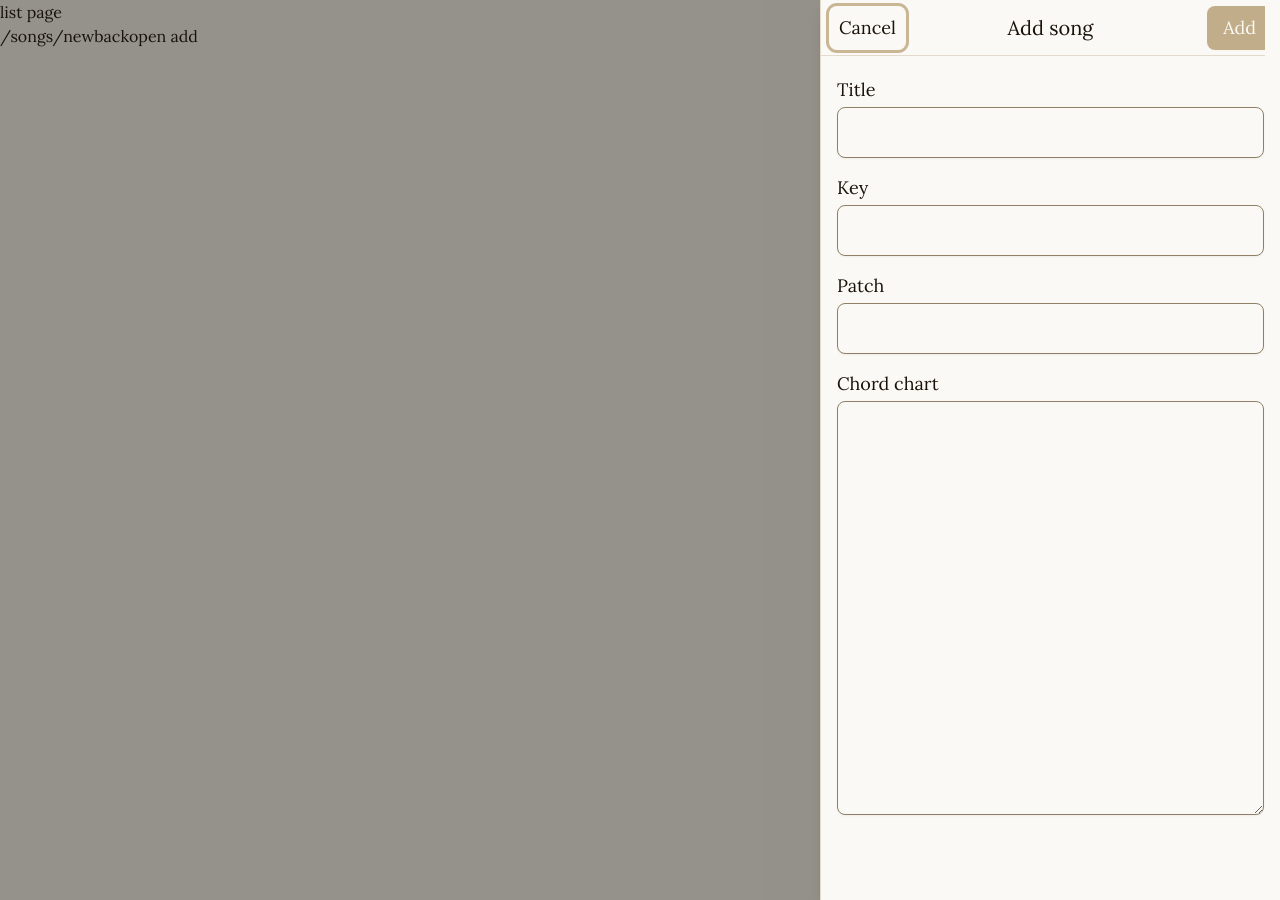
Scenario: SongEdit › cancels an add by stepping back when there is history
Click the button "Cancel" at (867, 28), box [829,6,906,50]
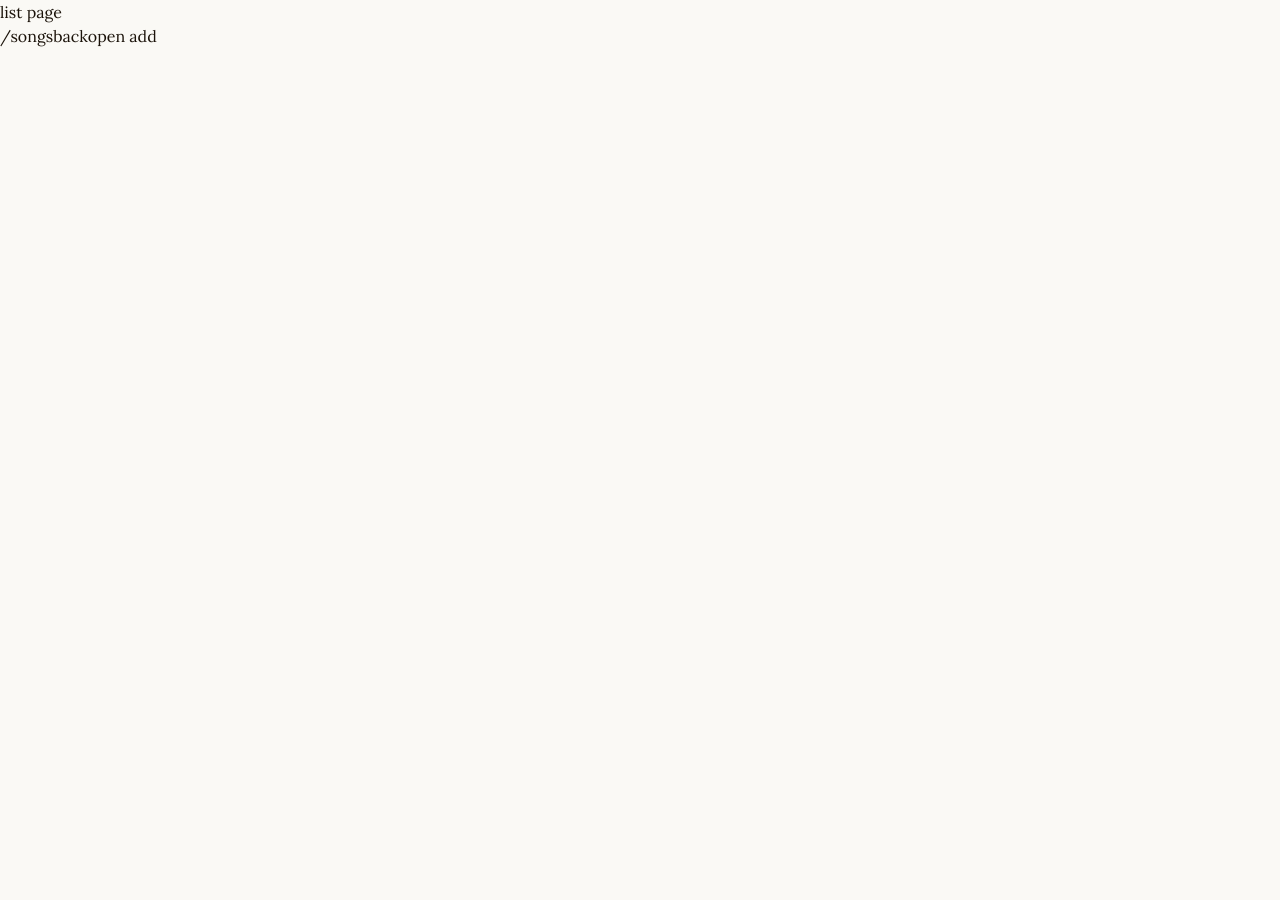
Expected: the text "list page" is shown, [0,2,62,22]
Now the dialog is gone
